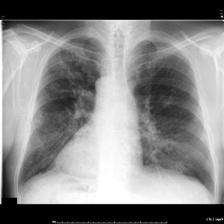tuberculosis: (13, 26, 220, 204)
